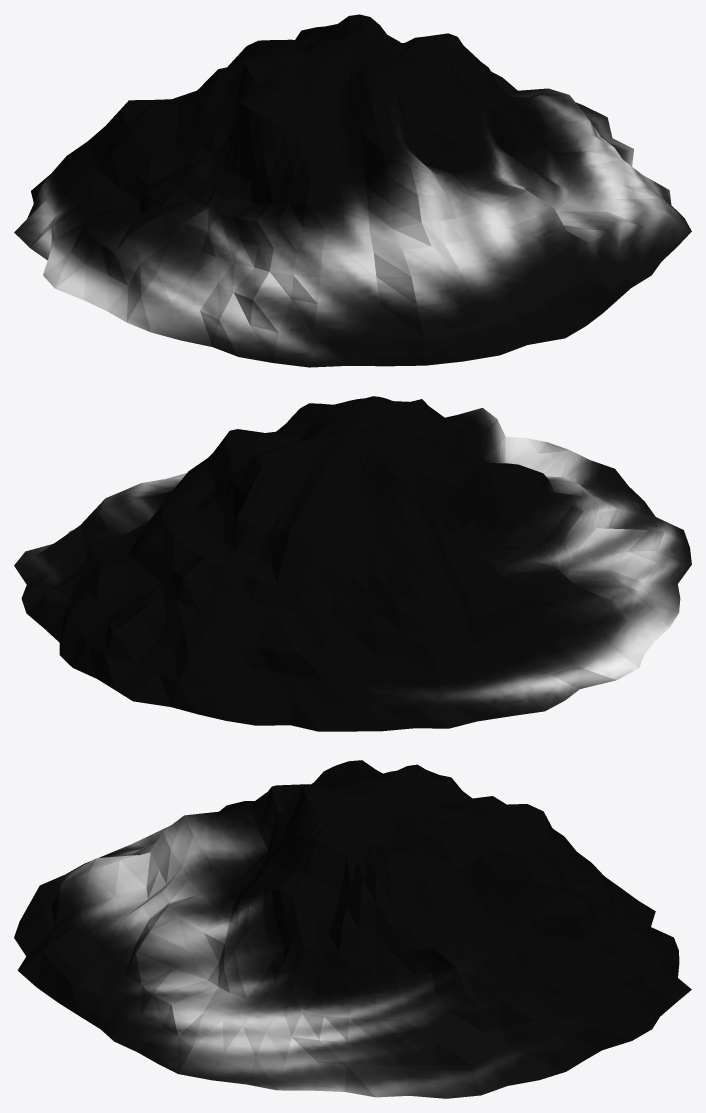
Rendered from 0184_Water.glb.
The picture shows the model from 3 angles, top to bottom: view 1: azimuth 30°, elevation 25°; view 2: azimuth 150°, elevation 25°; view 3: azimuth 270°, elevation 25°; orthographic projection. The views are drawn at different scales.
Bounding box in the file's own units: 2.15 × 0.6407 × 2.2.
1 material, 1 textured.
